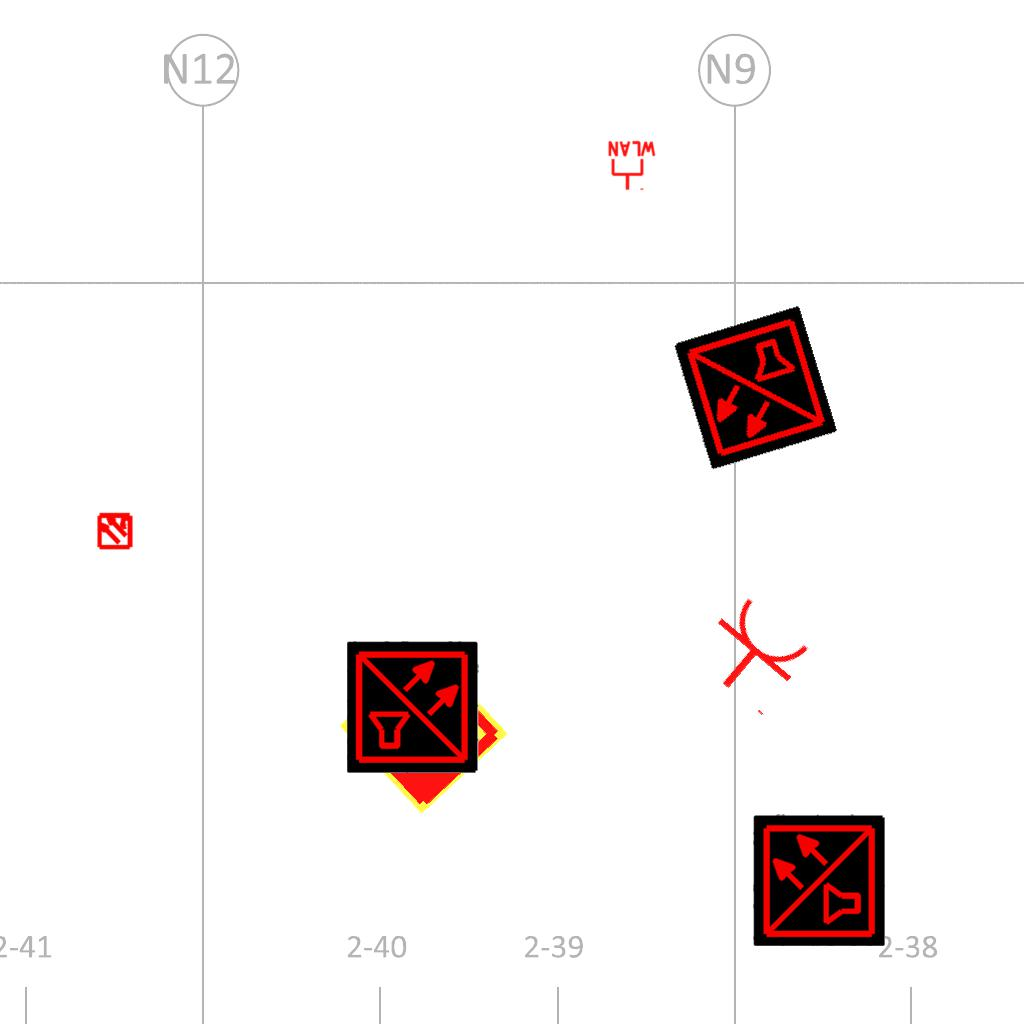ASR_Ansaugrauchmelder: (335, 641, 512, 818)
OKW_Multisensormelder_(Kombination_optischer_Rauch-Kahlenmonoxid_Waerme-Melder): (672, 305, 838, 471), (753, 814, 885, 946), (347, 641, 479, 773)
OT_Multisensormelder_(Kombination_RMO_WMD): (87, 502, 143, 558)
Schukosteckdose_einfach: (687, 589, 820, 721)
WLAN: (606, 140, 658, 192)
